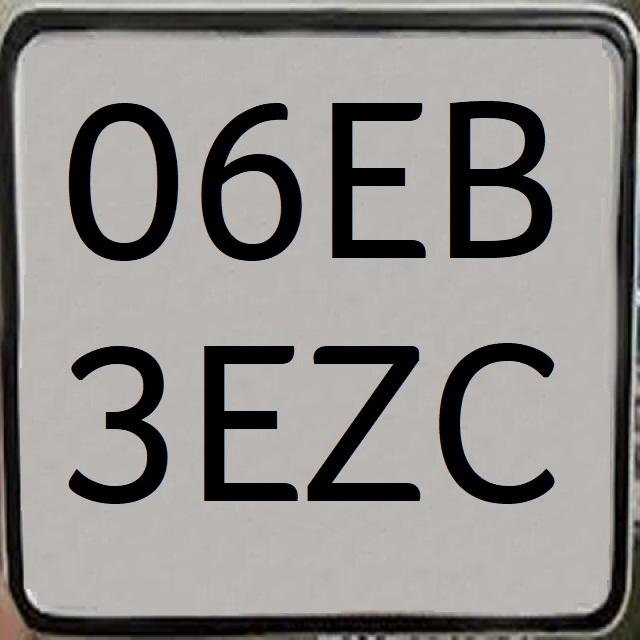3: (61, 327, 176, 519)
6: (197, 79, 302, 269)
B: (446, 87, 558, 262)
C: (432, 331, 560, 505)
E: (323, 75, 426, 272)
